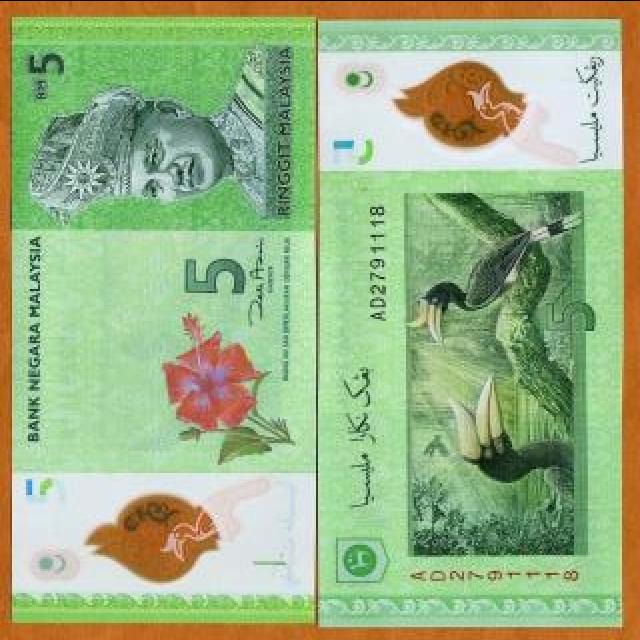5 Ringgit: (316, 19, 621, 626), (8, 19, 315, 620)
